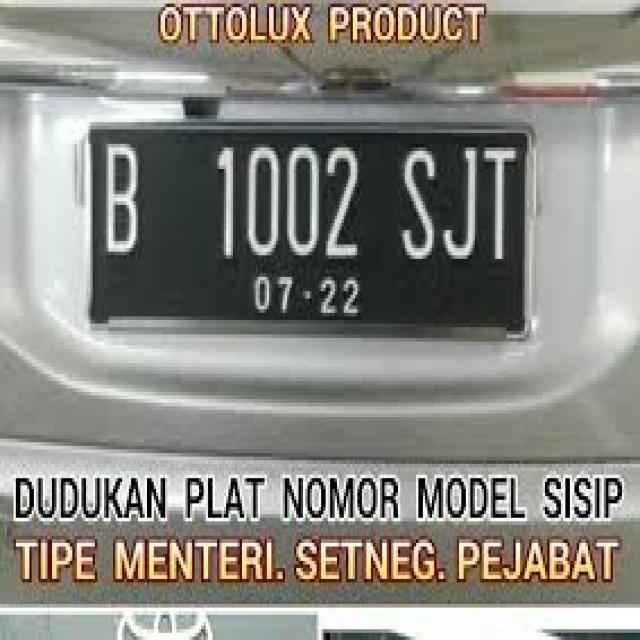license-plat: (81, 112, 537, 345)
